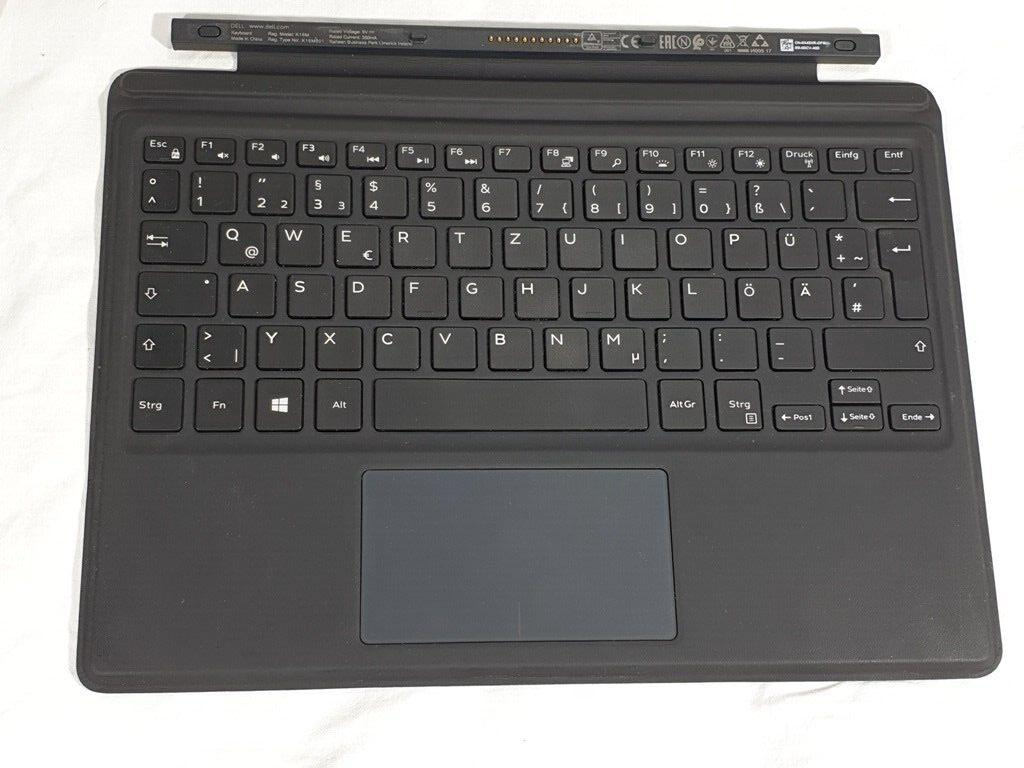0: (689, 176, 736, 220)
1: (187, 168, 237, 213)
2: (245, 170, 295, 215)
3: (302, 171, 352, 216)
4: (360, 173, 407, 217)
5: (416, 174, 462, 218)
6: (471, 175, 518, 218)
7: (527, 176, 573, 219)
8: (581, 176, 627, 219)
9: (634, 176, 681, 220)
a: (226, 270, 276, 317)
accent: (798, 176, 845, 219)
ae: (789, 273, 832, 319)
alt-left: (312, 375, 363, 431)
altgr-right: (655, 375, 705, 430)
b: (484, 324, 533, 370)
c: (371, 323, 420, 369)
caret: (138, 167, 179, 212)
comma: (652, 324, 701, 370)
d: (342, 272, 391, 318)
del: (853, 176, 918, 220)
e: (331, 221, 380, 267)
enter: (874, 224, 926, 319)
f: (400, 273, 447, 318)
g: (456, 273, 503, 318)
h: (511, 274, 560, 319)
hash: (840, 273, 883, 319)
i: (610, 225, 656, 269)
j: (567, 274, 614, 319)
k: (623, 274, 671, 319)
keyboard: (114, 120, 951, 450)
l: (678, 274, 725, 319)
less: (194, 321, 246, 370)
m: (597, 324, 644, 370)
minus: (764, 324, 813, 369)
n: (541, 324, 589, 370)
o: (664, 225, 711, 269)
oe: (733, 274, 781, 319)
p: (720, 225, 767, 269)
plus: (824, 224, 867, 269)
point: (708, 324, 757, 370)
q: (215, 219, 266, 265)
r: (388, 223, 437, 268)
s: (284, 271, 333, 318)
shift-left: (130, 320, 185, 369)
shift-lock: (134, 267, 217, 316)
shift-right: (821, 323, 932, 369)
space: (372, 374, 646, 431)
ss: (744, 176, 791, 220)
strg-left: (128, 374, 184, 432)
strg-right: (712, 375, 762, 430)
t: (445, 223, 492, 268)
tab: (136, 216, 206, 263)
u: (555, 224, 601, 269)
ue: (775, 224, 818, 269)
v: (429, 323, 477, 370)
w: (274, 220, 324, 266)
x: (313, 322, 363, 370)
y: (254, 322, 305, 370)
z: (500, 224, 547, 269)
